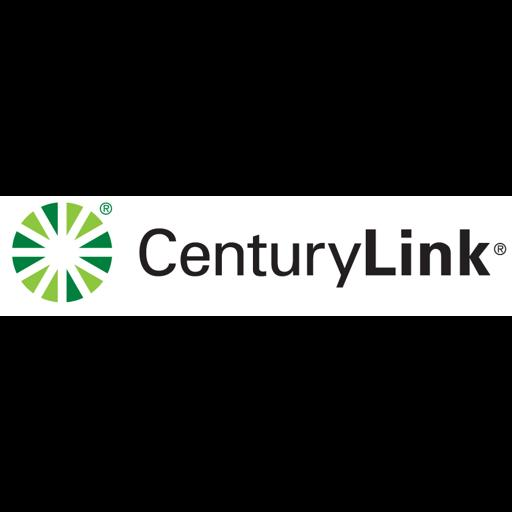CenturyLink: (0, 196, 512, 316)
